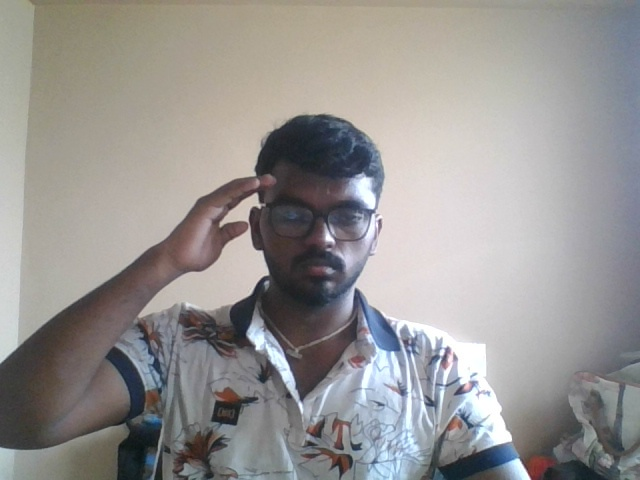Hello: (159, 149, 281, 303)
